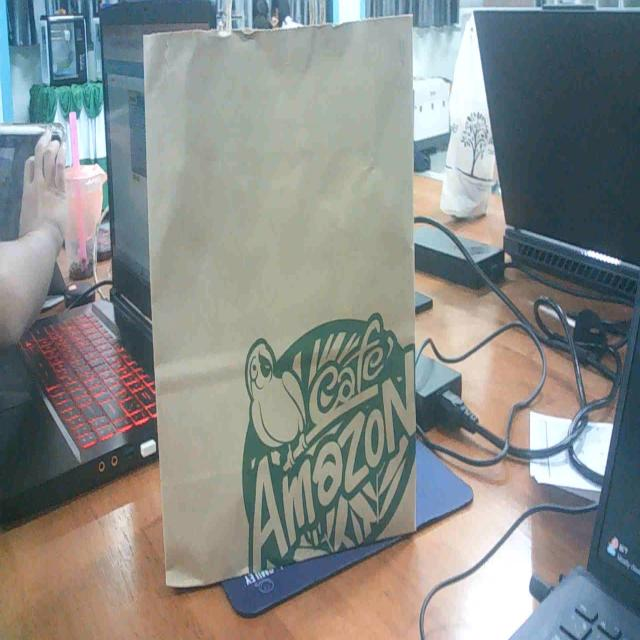bag: (135, 0, 426, 562)
